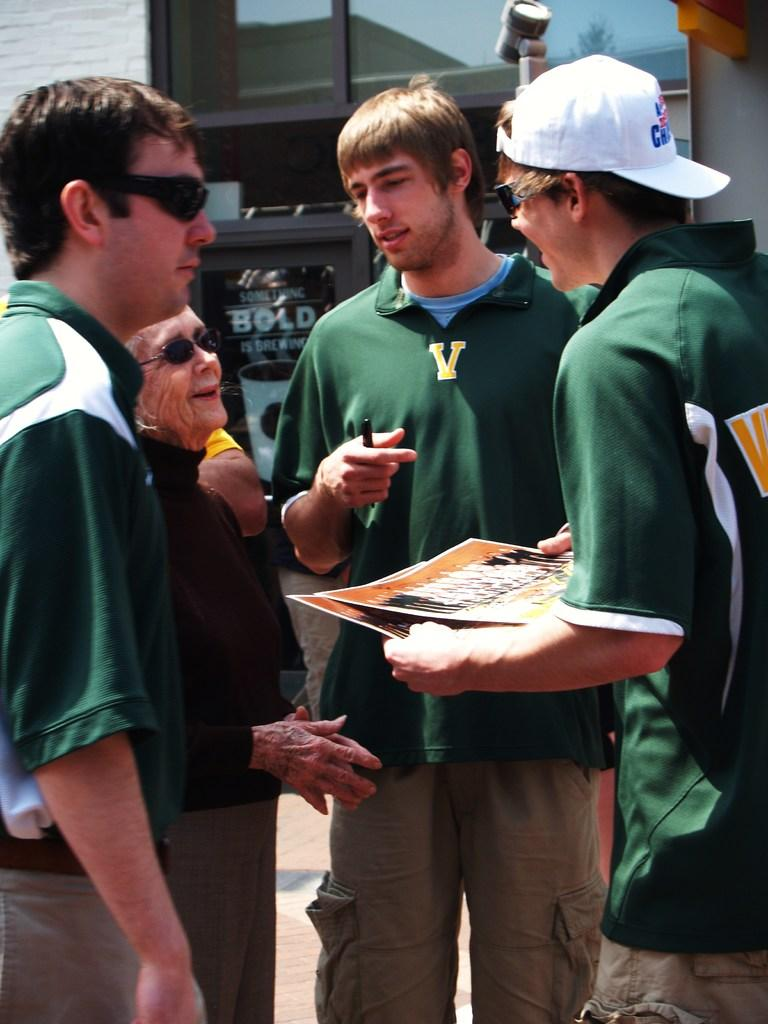Hat: (498, 49, 731, 198)
